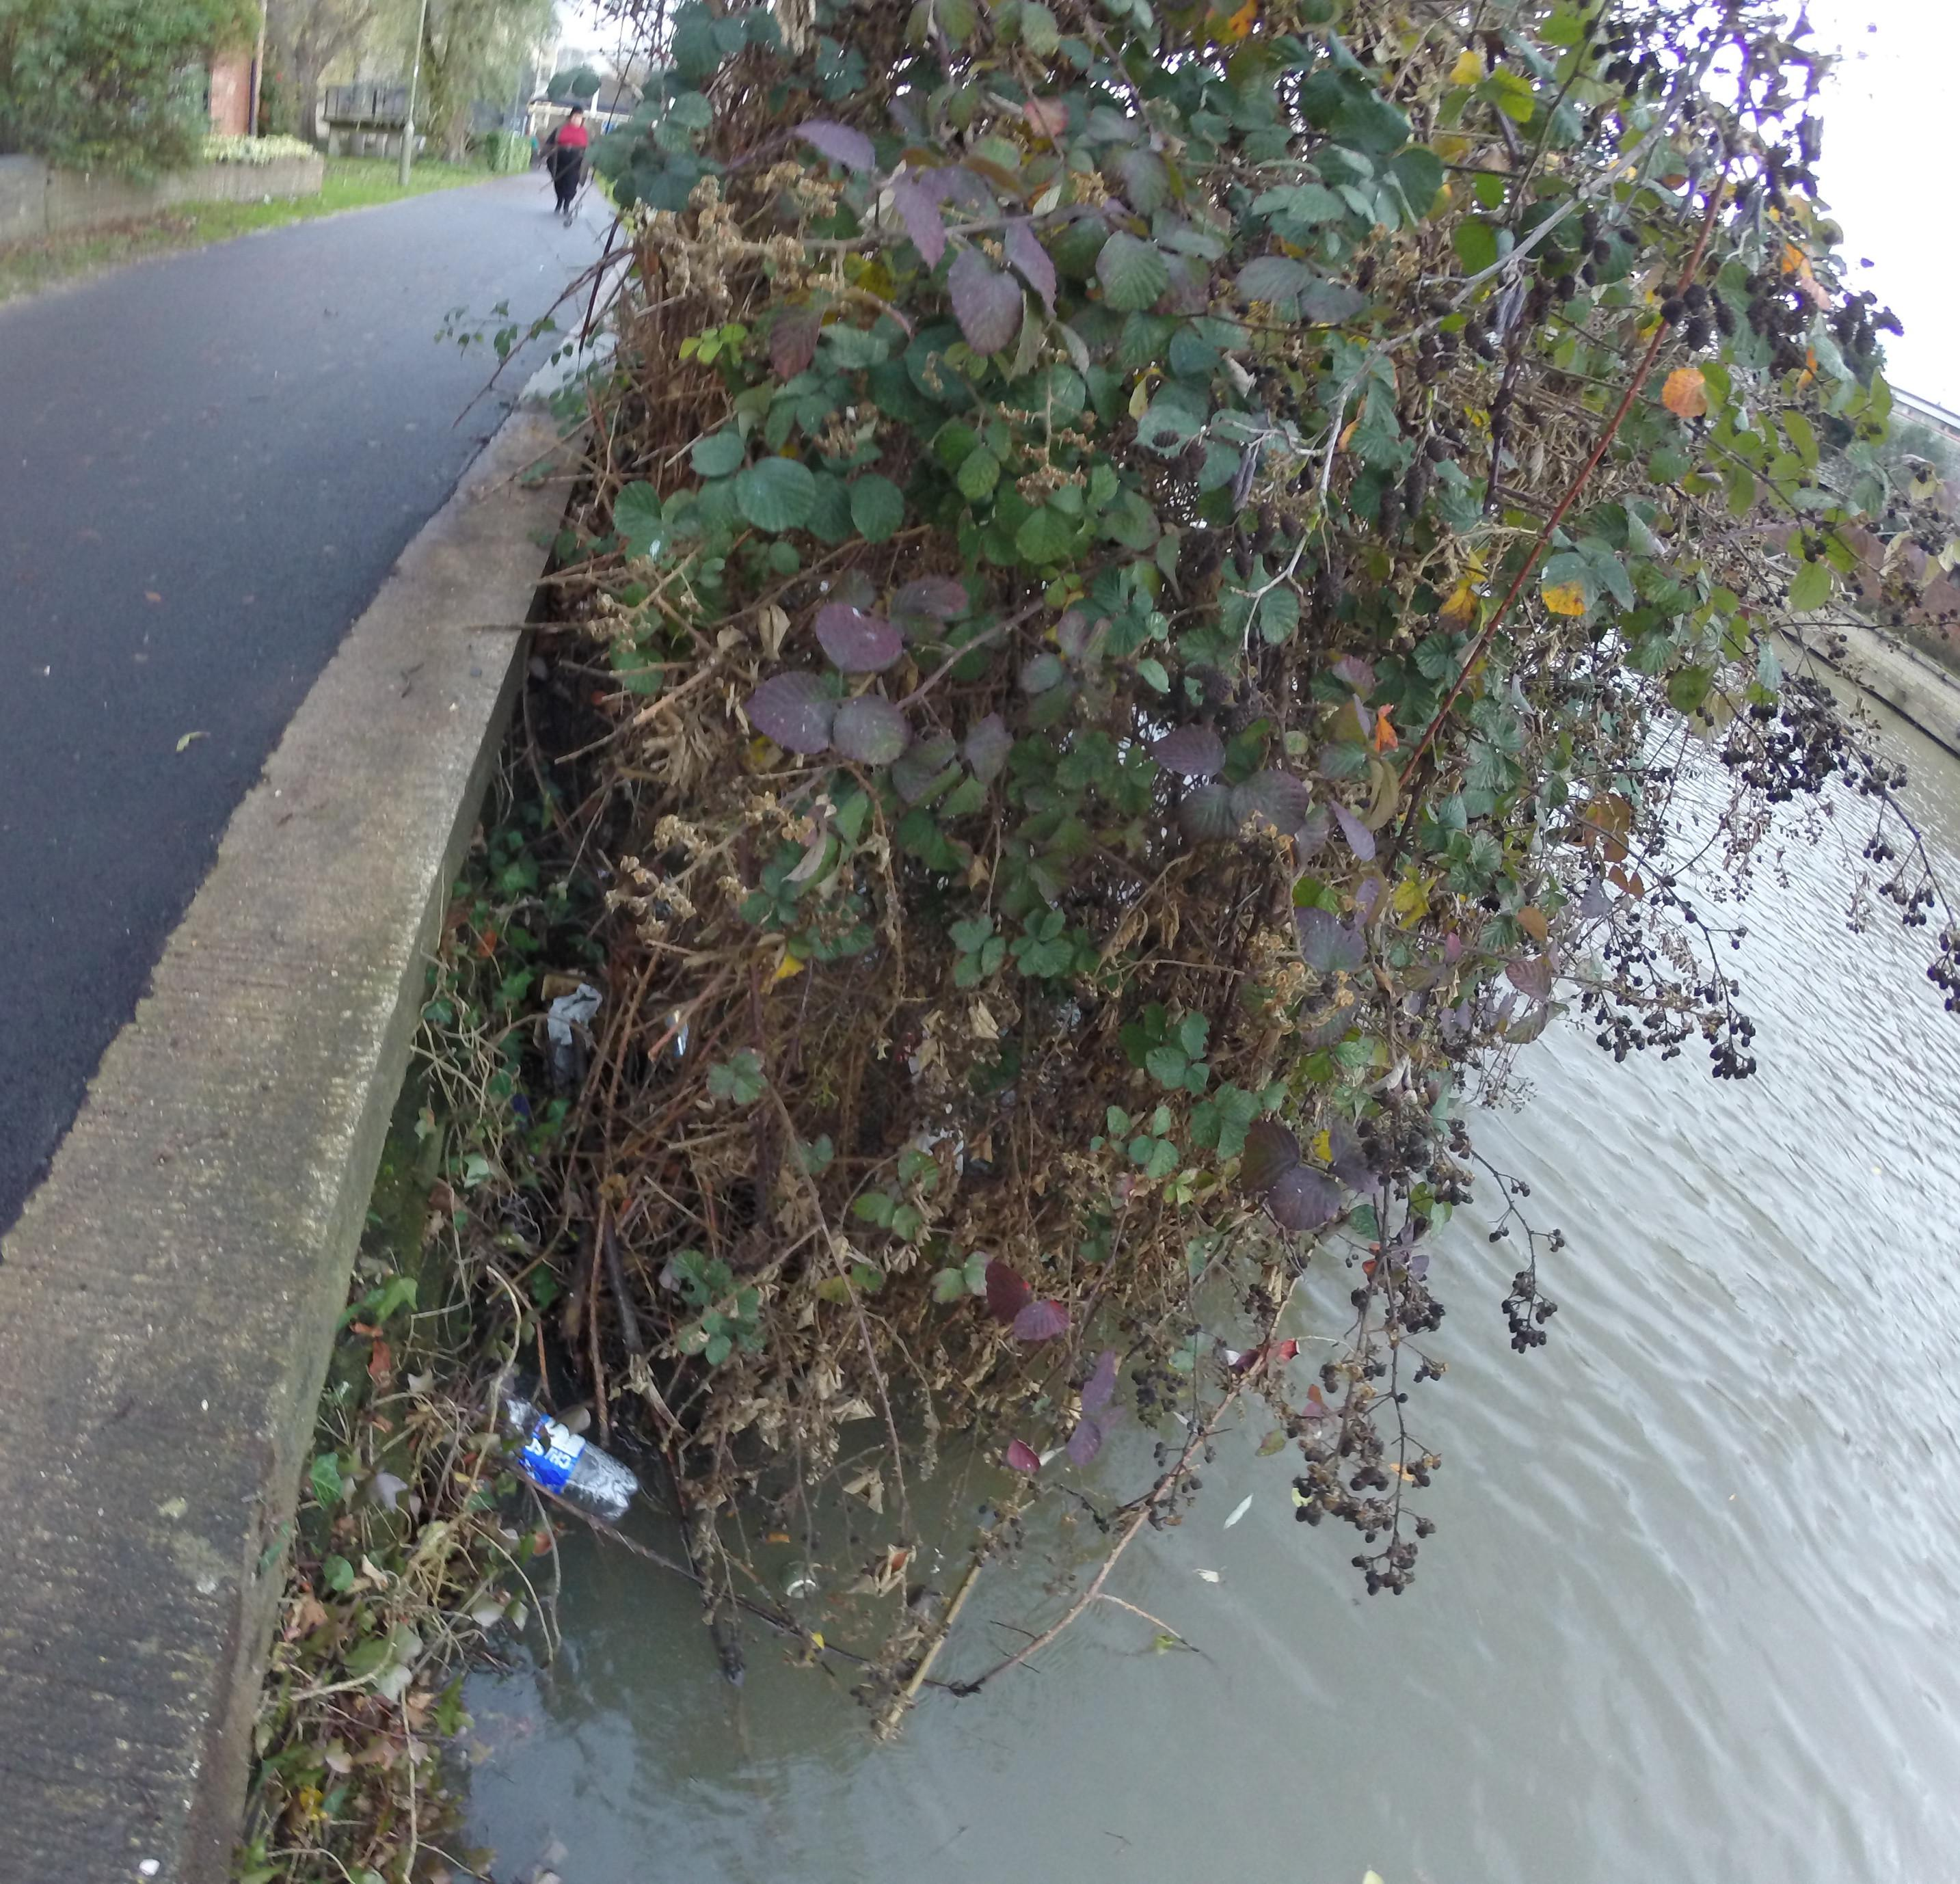Trash: (478, 1396, 634, 1518)
